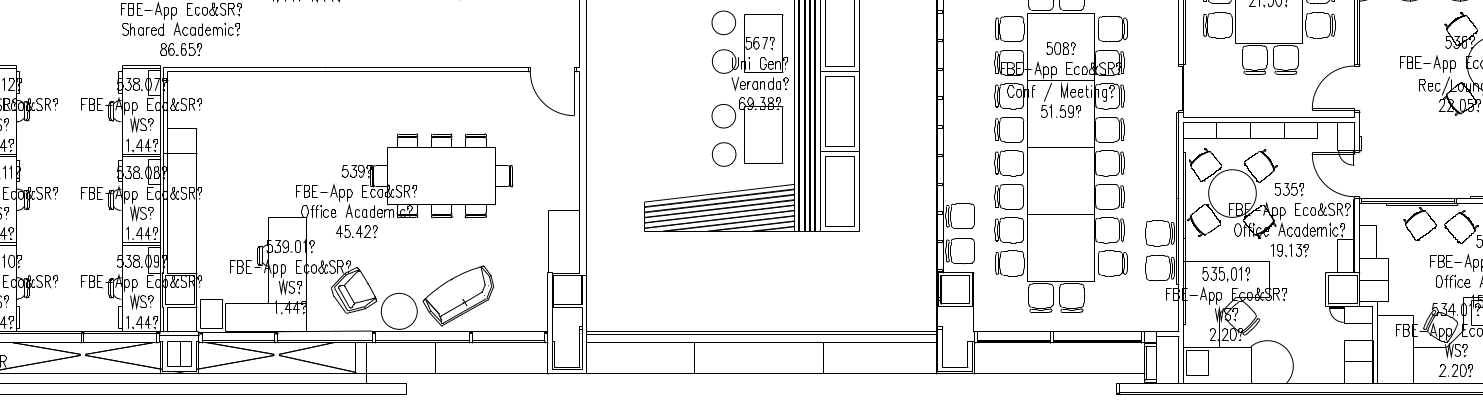door: (1301, 52, 1358, 114), (1304, 140, 1361, 202), (521, 61, 578, 123)
